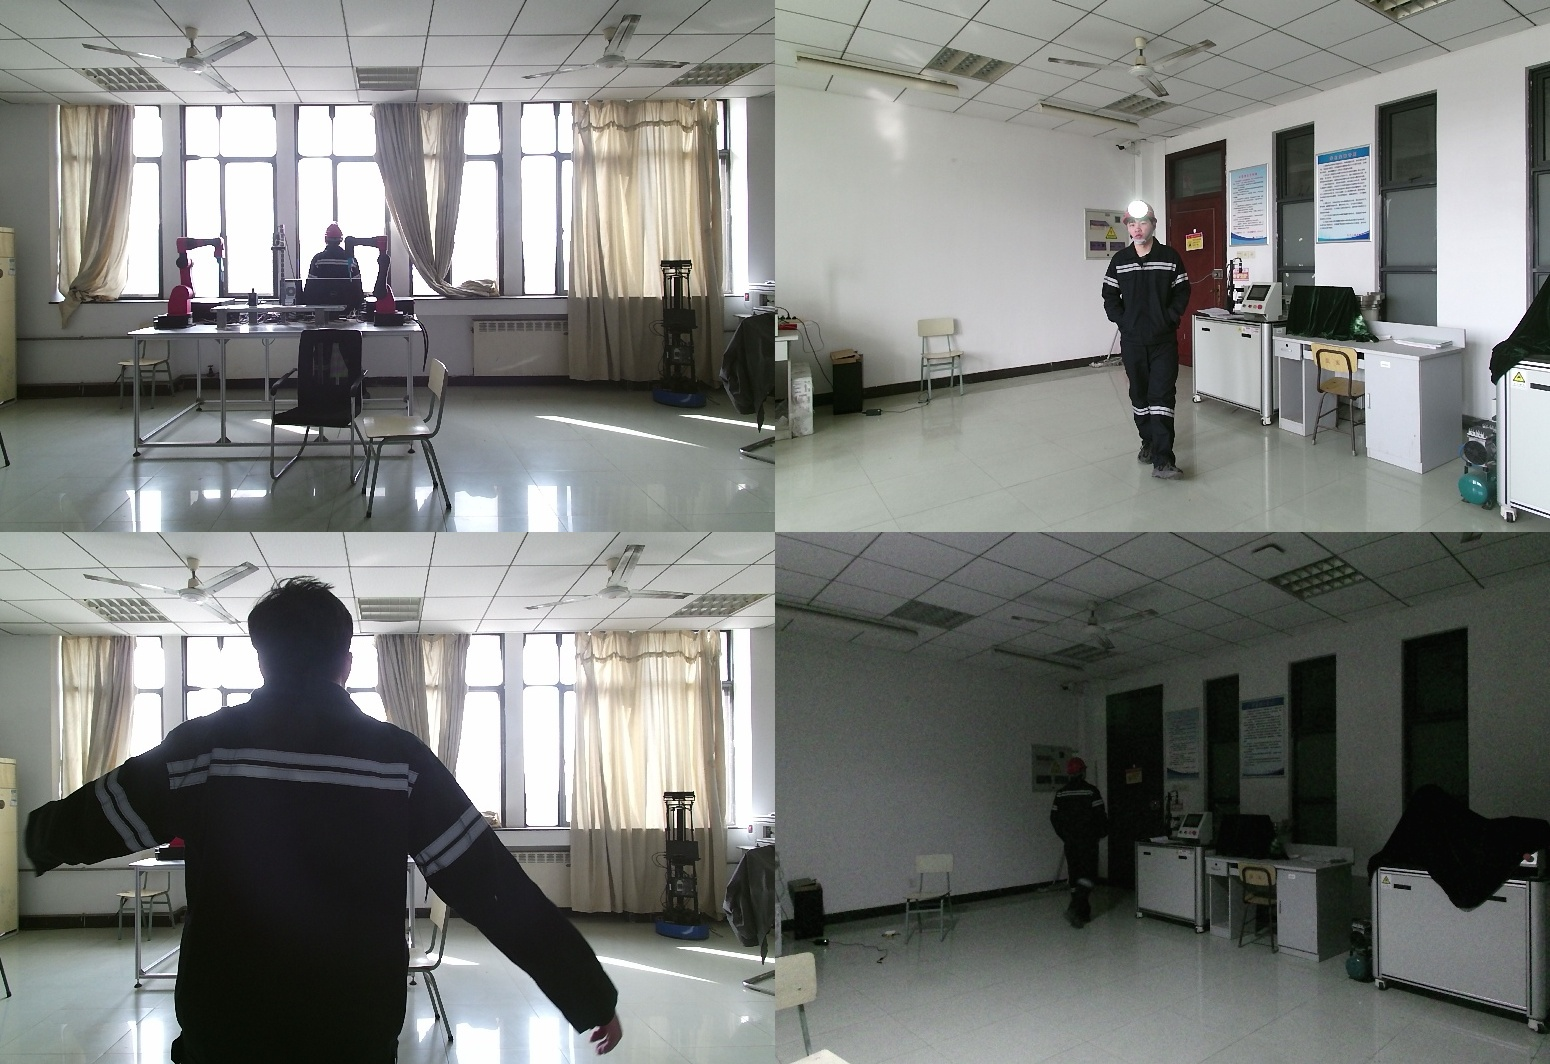person: (28, 583, 618, 1064), (1100, 203, 1200, 480), (1048, 759, 1113, 931), (302, 225, 362, 380)
